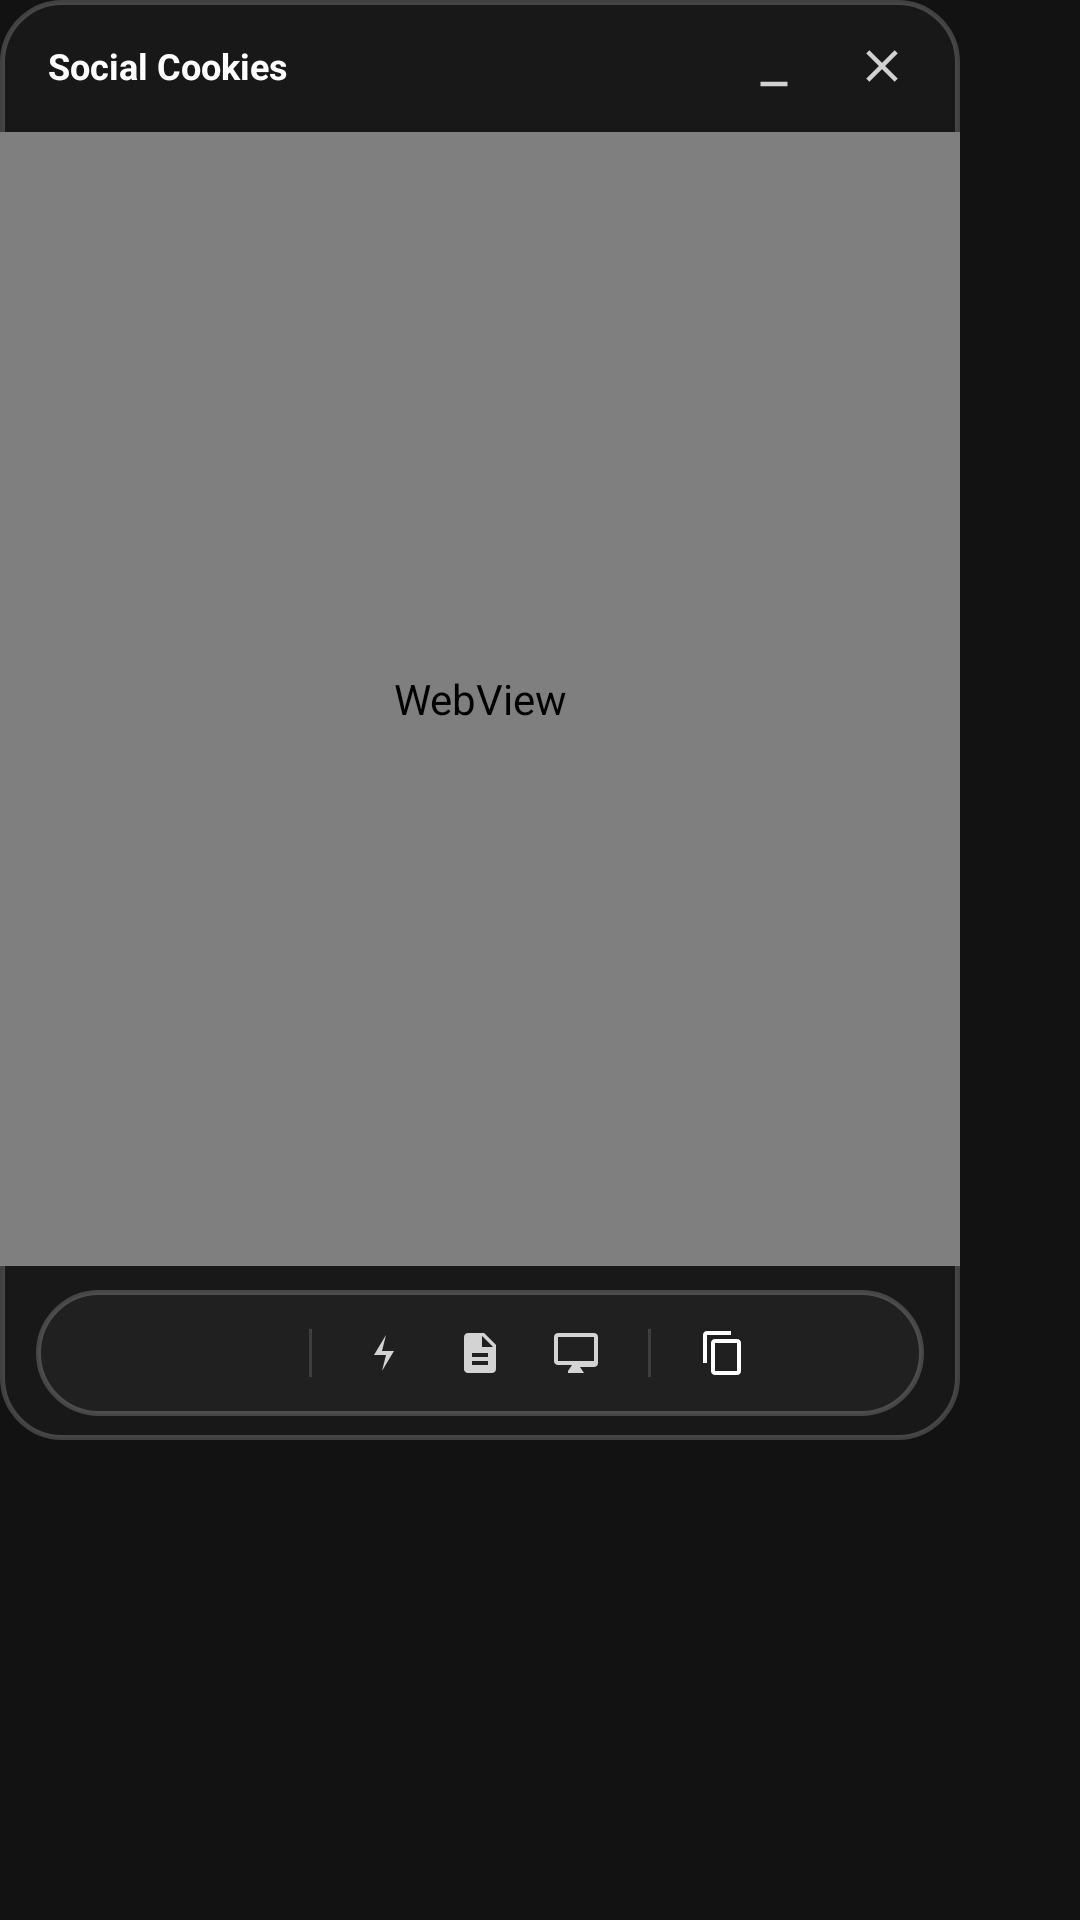

Screen size 1080px x 1920px. Icon name, then its center in pixels as (x=x, y=y):
close: (x=882, y=66)
Copy Cookies: (x=722, y=1353)
desktop mode: (x=576, y=1353)
minimize: (x=774, y=84)
Save to Google Sheet: (x=480, y=1353)
